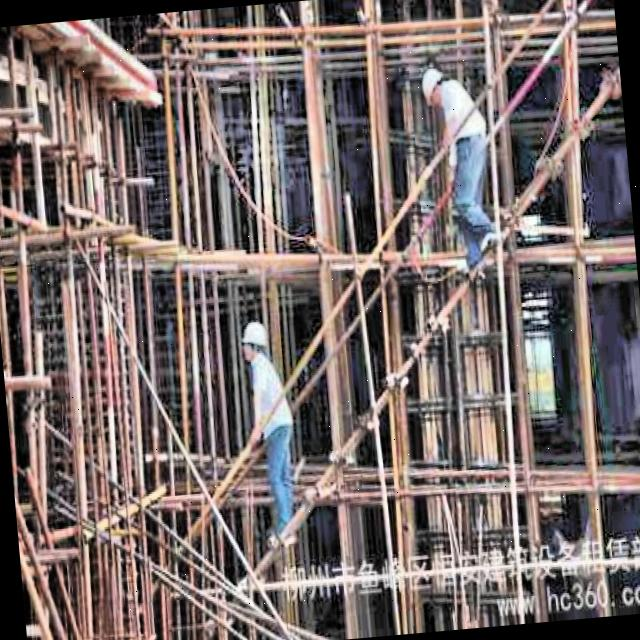helmet: (240, 314, 270, 364), (418, 63, 449, 108)
